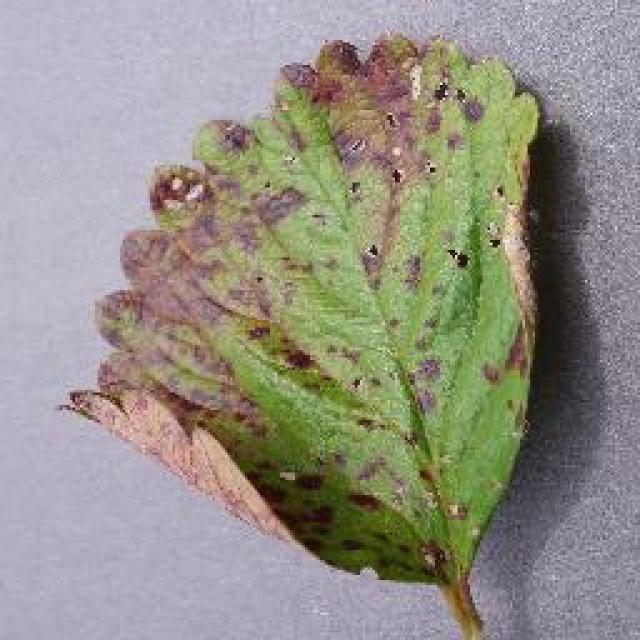Strawberry leaf scorch: (273, 123, 477, 430)
